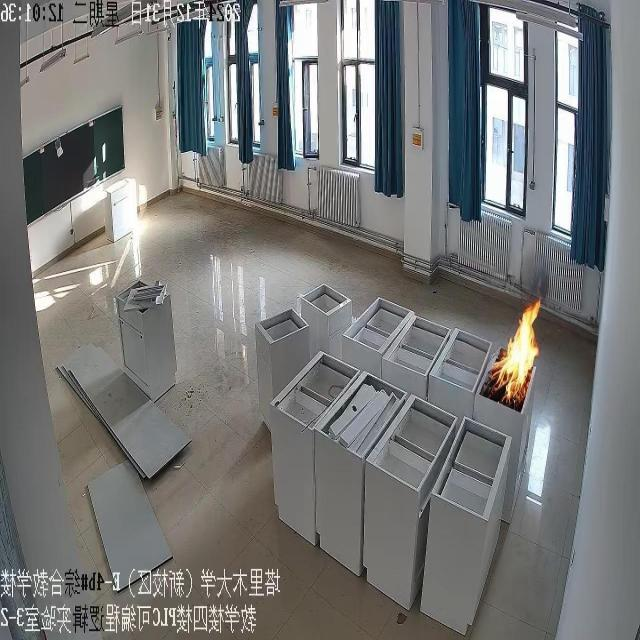fire: (463, 288, 551, 422)
